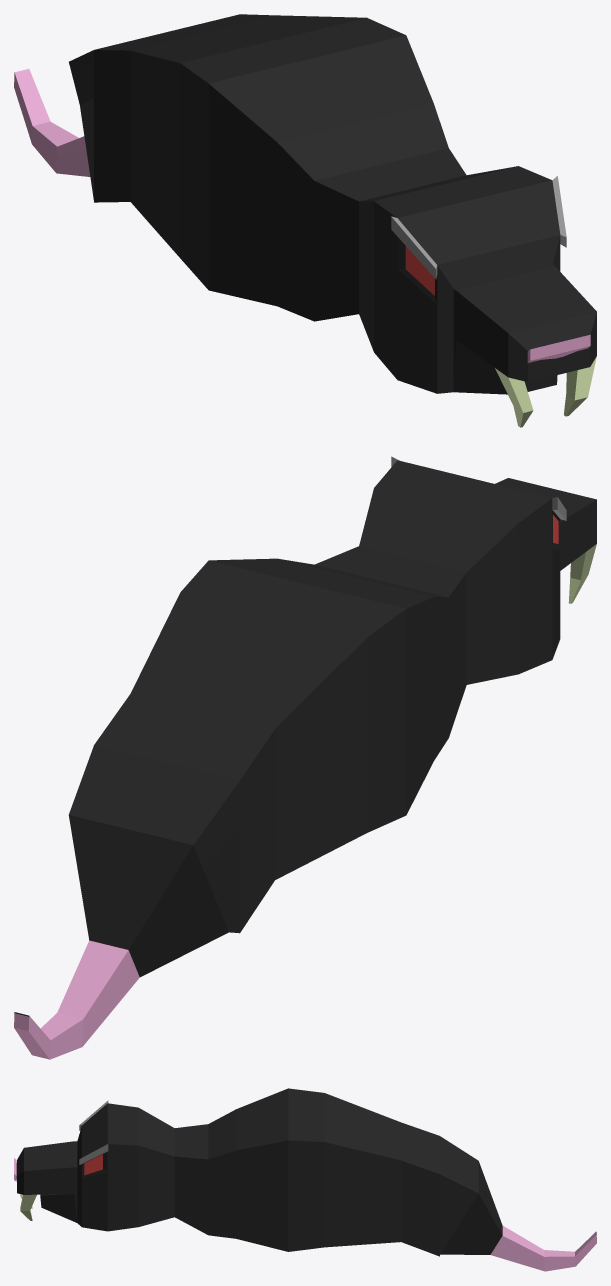
Rendered from Tronco.fbx.
3 views of the same model, one above another, from view 1: azimuth 30°, elevation 25°; view 2: azimuth 150°, elevation 25°; view 3: azimuth 270°, elevation 25° (orthographic). The views are drawn at different scales.
Visible parts, largest first — view 1: Cube; view 2: Cube; view 3: Cube.
Boxes of the visible parts, x1,y1,x2,y2 form: Cube: (14, 14, 596, 427); Cube: (14, 456, 596, 1059); Cube: (14, 1088, 596, 1271).
Bounding box in the file's own units: 128 × 176 × 606.
